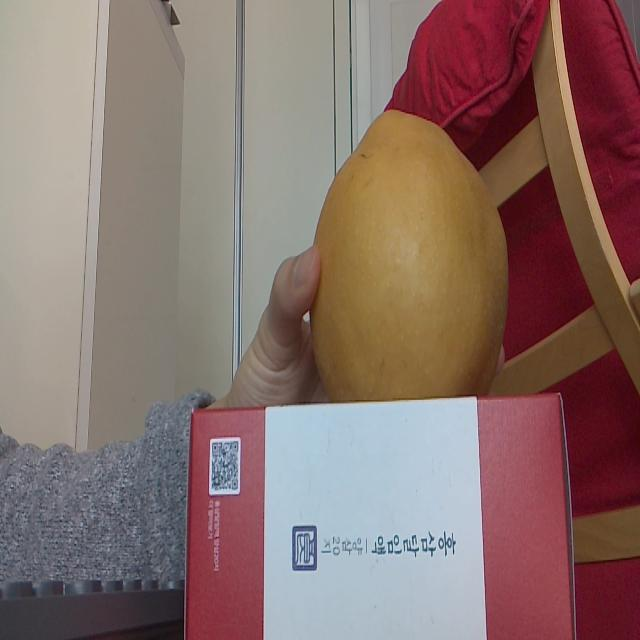pear: (312, 108, 507, 397)
